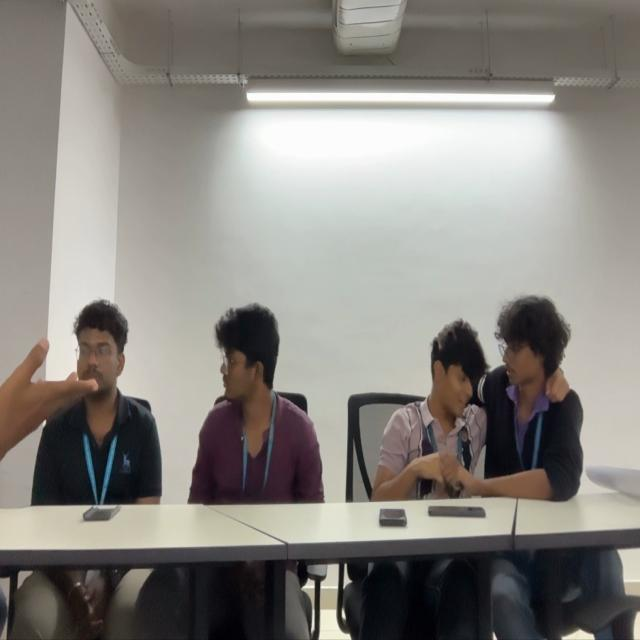Isolated: (190, 305, 324, 501), (50, 300, 164, 511)
socializing: (371, 296, 593, 496)
